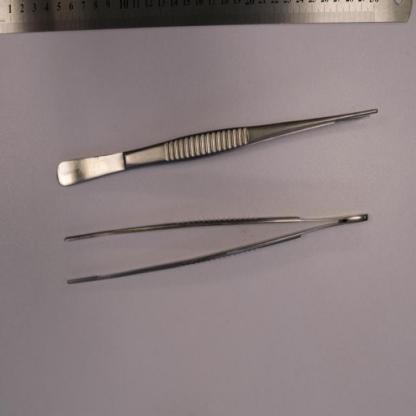DeBakey Dissector: (57, 108, 378, 187), (64, 214, 369, 284)
